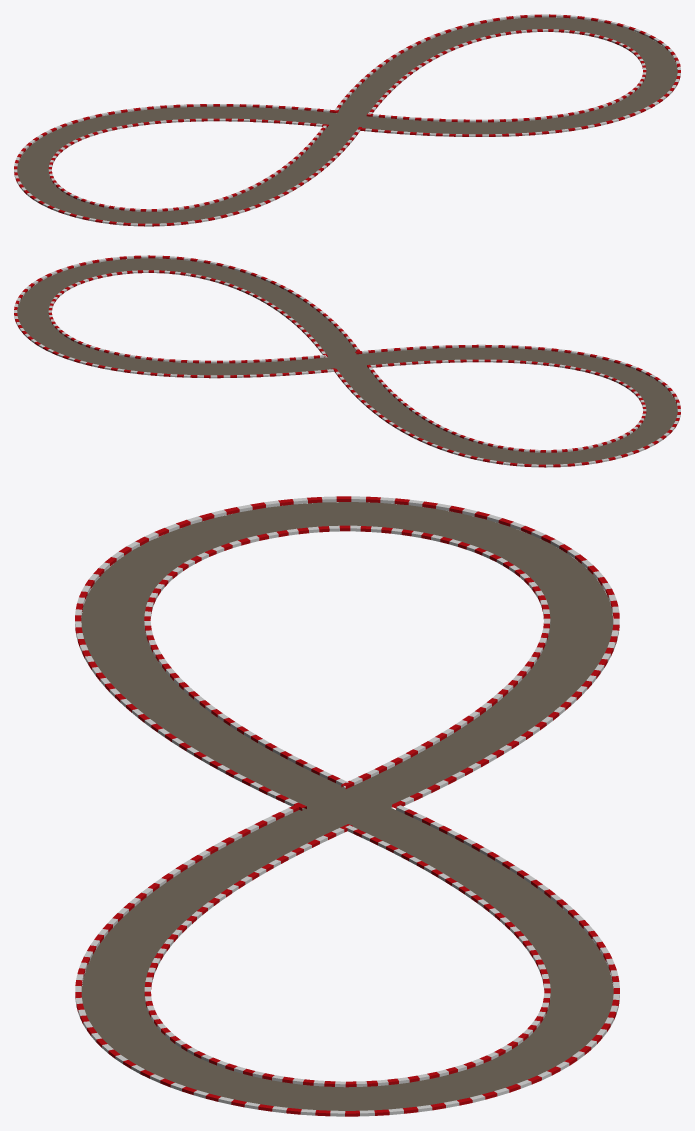
Rendered from track1.fbx.
3 views of the same model, one above another, from view 1: azimuth 30°, elevation 25°; view 2: azimuth 150°, elevation 25°; view 3: azimuth 270°, elevation 25° (orthographic). The views are drawn at different scales.
Visible parts, largest first — view 1: Road.003, Edge.003; view 2: Road.003, Edge.003; view 3: Road.003, Edge.003.
Boxes of the visible parts, left/top/right/bottom form: Road.003: left=17, top=17, right=677, bottom=223; Edge.003: left=14, top=14, right=680, bottom=226; Road.003: left=17, top=258, right=677, bottom=464; Edge.003: left=14, top=255, right=680, bottom=467; Road.003: left=81, top=502, right=613, bottom=1110; Edge.003: left=75, top=496, right=619, bottom=1116.
Bounding box in the file's own units: 34664 × 79.35 × 12937.
